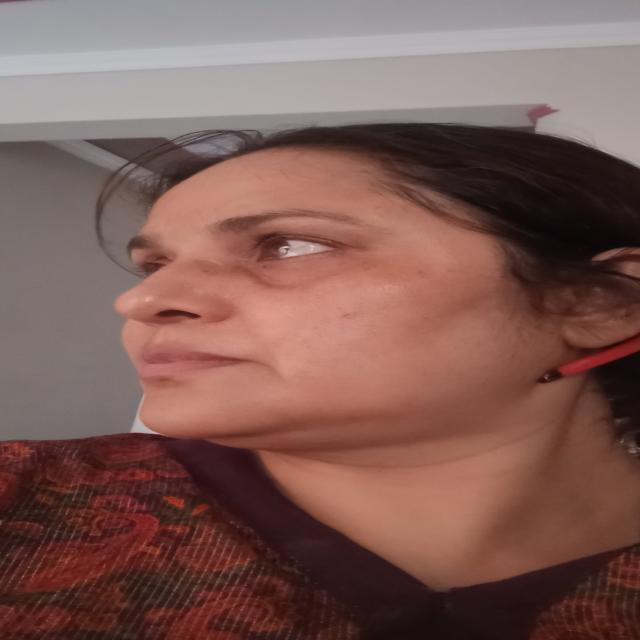Acne: (338, 309, 354, 321)
Wrinkles: (250, 320, 276, 359), (258, 363, 289, 384)
